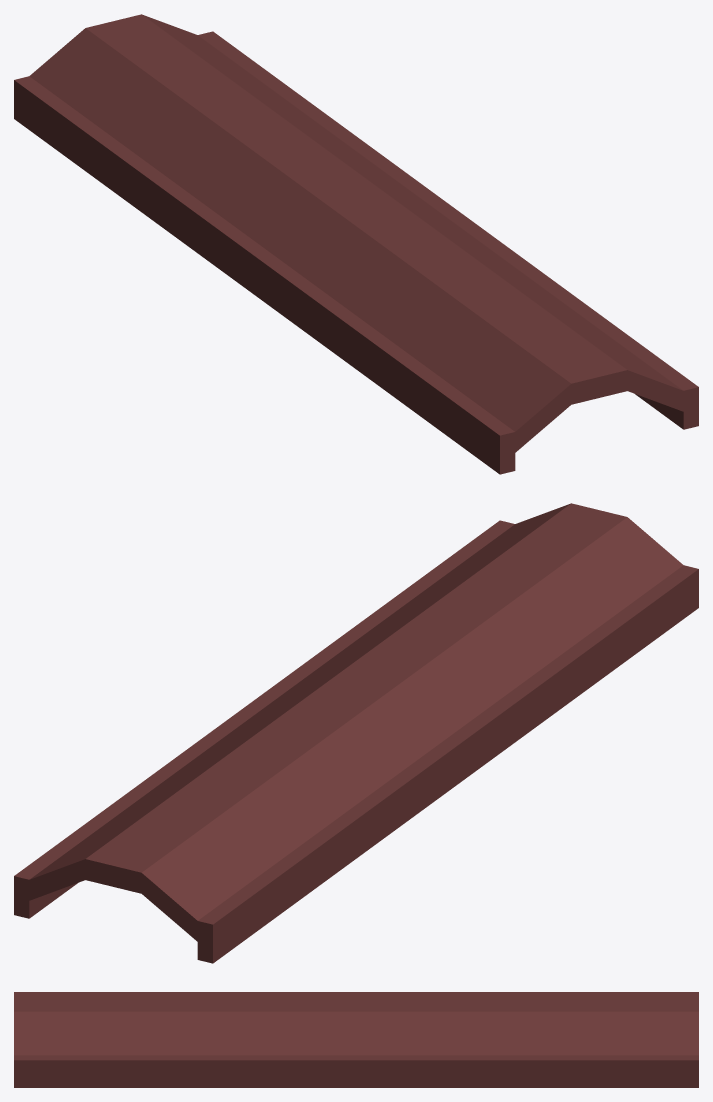
File: Junk.fbx
3 renders of one model, top to bottom at view 1: azimuth 30°, elevation 25°; view 2: azimuth 150°, elevation 25°; view 3: azimuth 270°, elevation 25°, orthographic. The views are drawn at different scales.
Parts seen in each view (by area): view 1: Cube.001; view 2: Cube.001; view 3: Cube.001.
Boxes of the visible parts, bbox=[...] form: Cube.001: bbox=[14, 14, 698, 474]; Cube.001: bbox=[14, 503, 698, 963]; Cube.001: bbox=[14, 992, 698, 1087].
Bounding box in the file's own units: 101 × 35.56 × 426.
